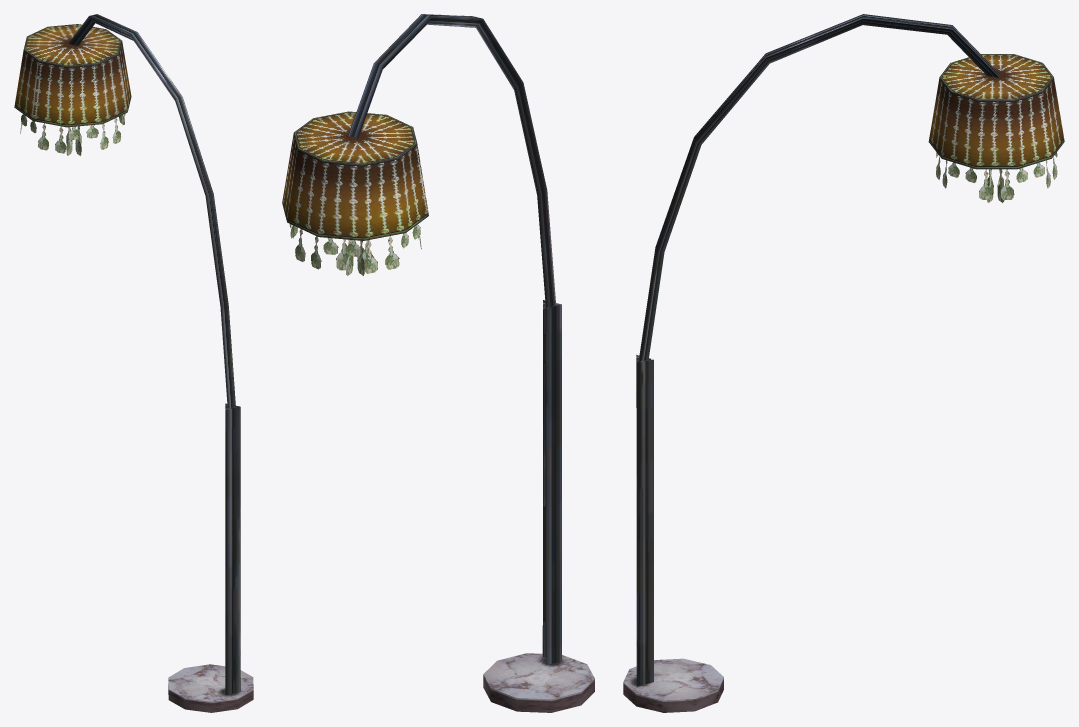
Rendered from furni_0200303_03.FBX.
3 renders of one model, left to right at view 1: azimuth 30°, elevation 25°; view 2: azimuth 150°, elevation 25°; view 3: azimuth 270°, elevation 25°, orthographic. The views are drawn at different scales.
Parts seen in each view (by area): view 1: furni_0200303_03; view 2: furni_0200303_03; view 3: furni_0200303_03.
Boxes of the visible parts, box(x1,y1,x2,y2) form: furni_0200303_03: box(14, 14, 253, 712); furni_0200303_03: box(282, 14, 594, 712); furni_0200303_03: box(623, 14, 1064, 712).
Size of the model in its own units: 43.62 by 252 by 149.
2 materials, 2 textured.
